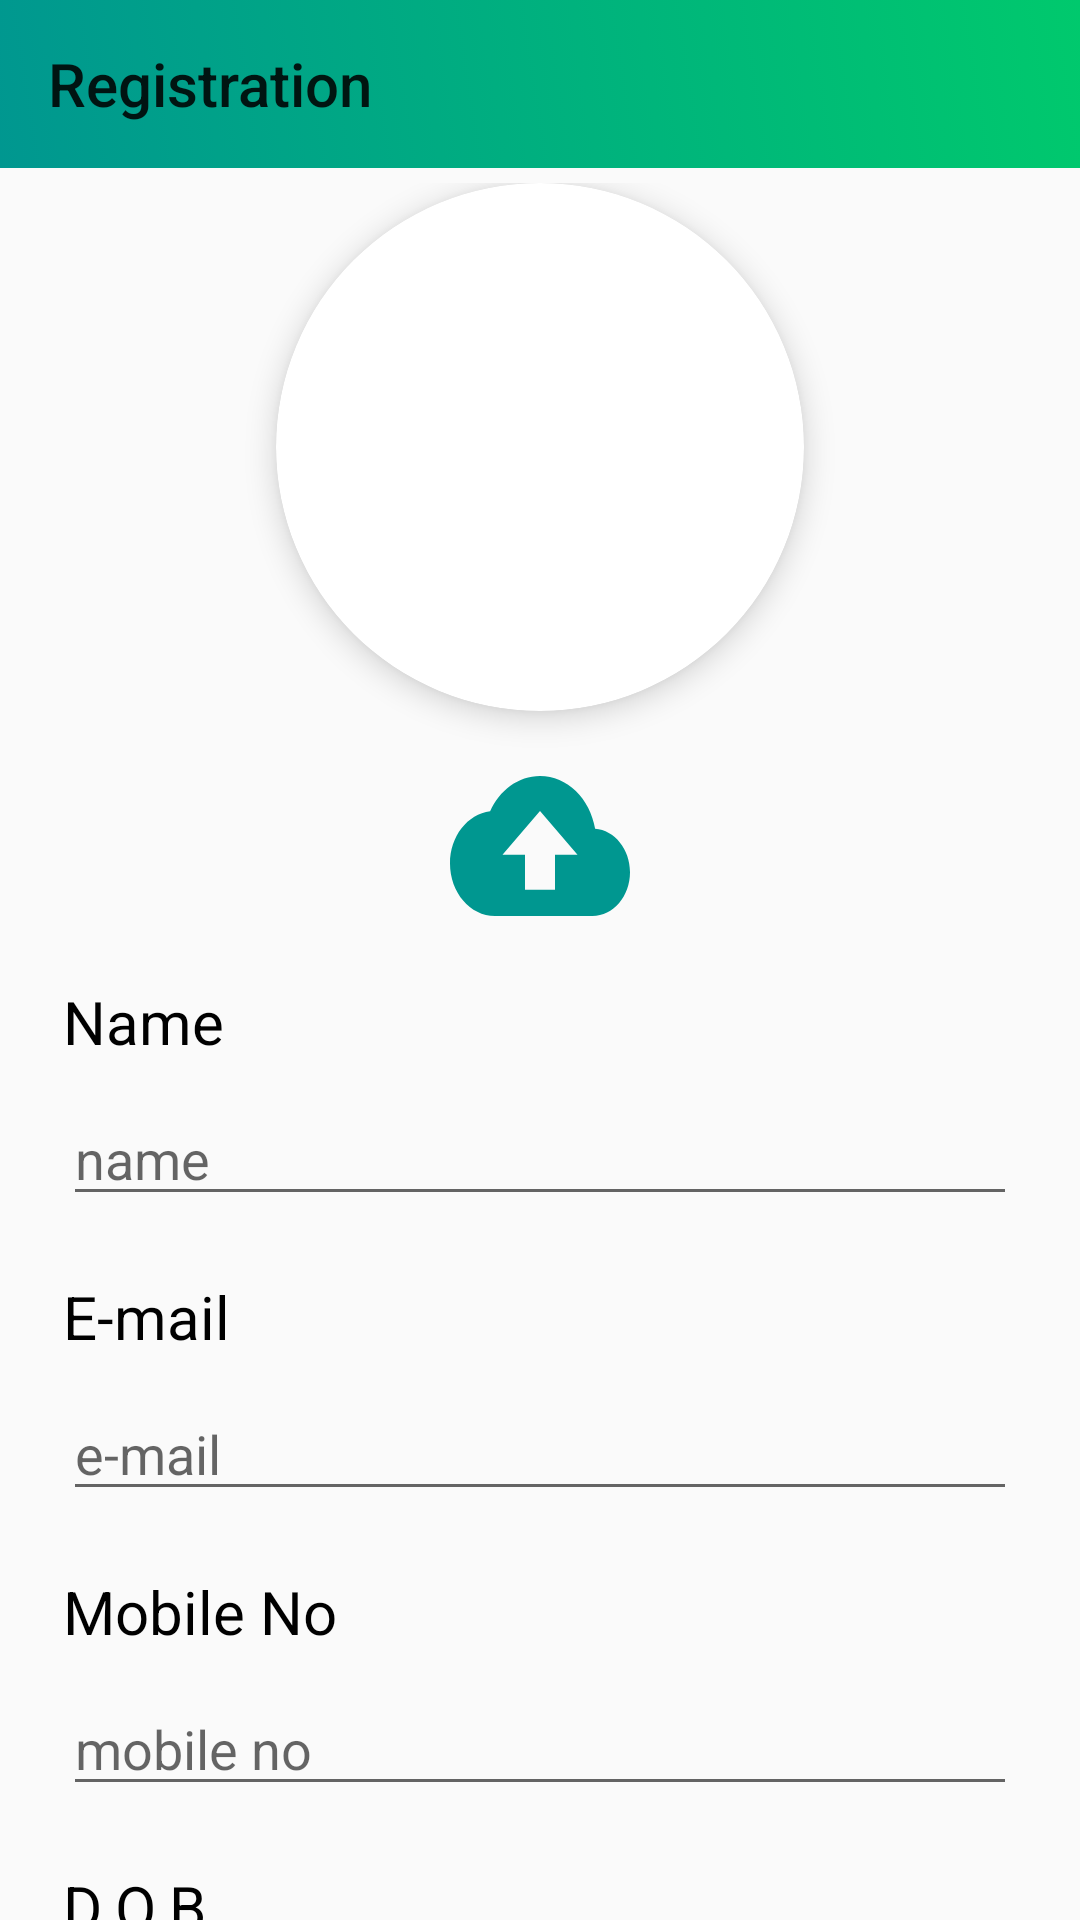

Locate icon controls on the screen. Image size 1080w x 1920h, boxes as rect(x1, y1, x2, y2).
cloud upload: rect(450, 776, 630, 916)
